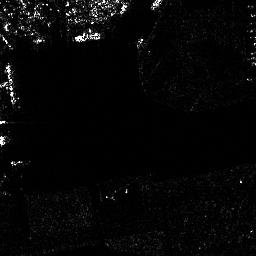ship: (72, 31, 101, 41)
